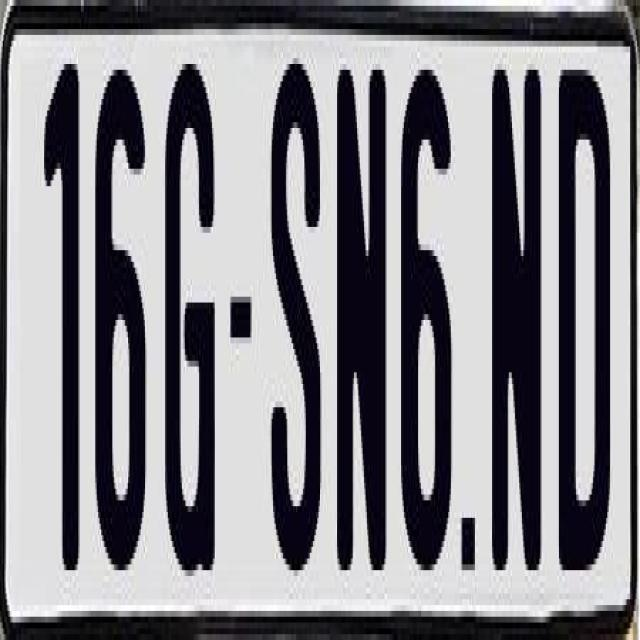1: (44, 58, 88, 582)
6: (398, 70, 457, 606), (91, 64, 147, 570)
D: (554, 64, 614, 570)
G: (163, 64, 214, 594)
N: (488, 52, 538, 564), (336, 52, 386, 558)
S: (269, 52, 320, 558)
